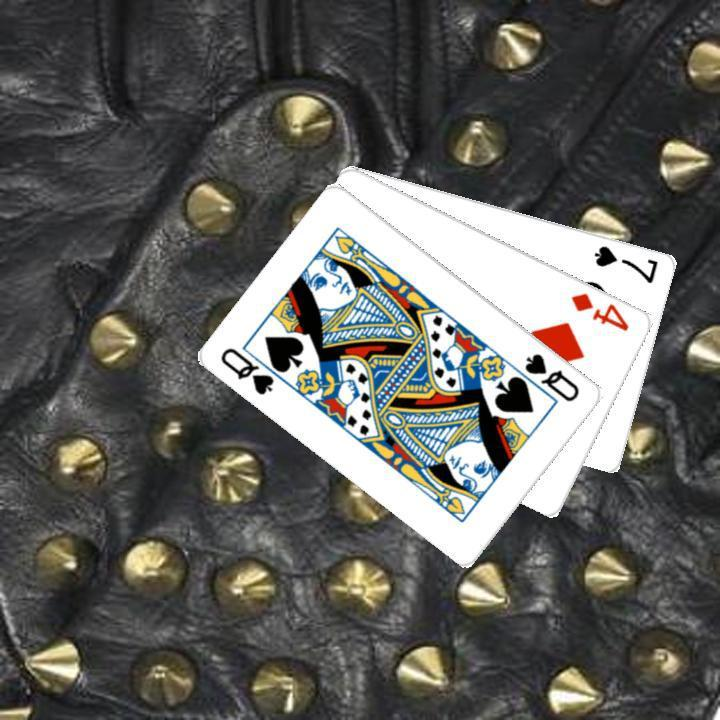4: (567, 287, 632, 333)
7: (590, 241, 661, 285)
Q: (520, 349, 582, 404), (216, 342, 277, 397)
